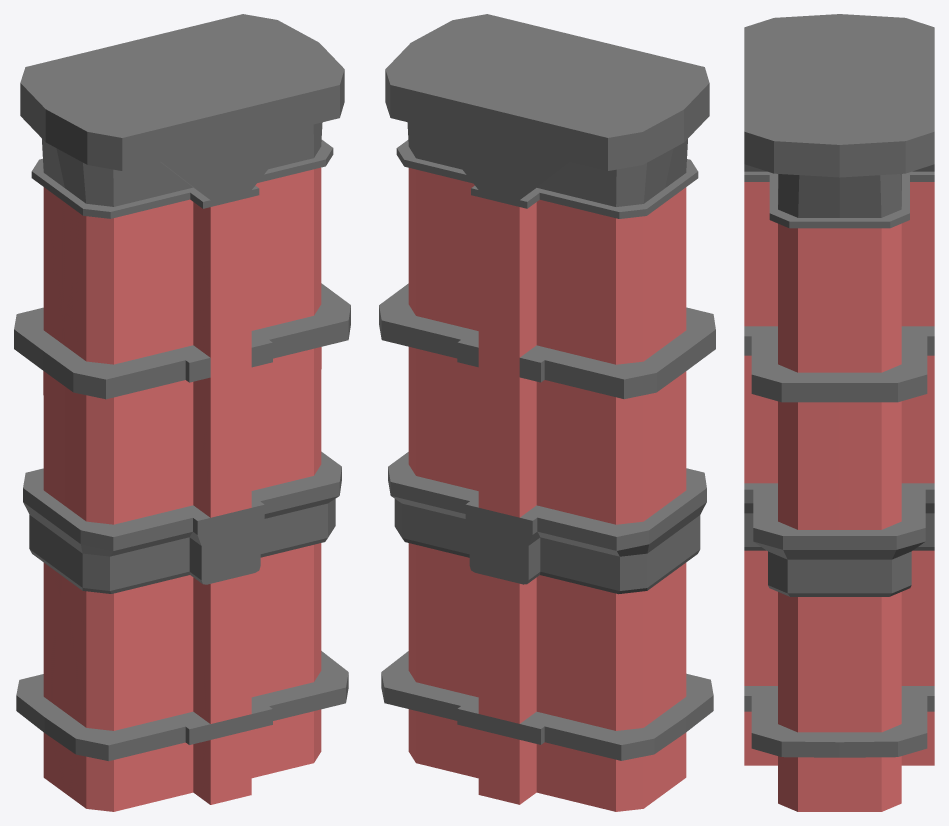
Rendered from PillarDoor.fbx.
3 views of the same model, side by side, from view 1: azimuth 30°, elevation 25°; view 2: azimuth 150°, elevation 25°; view 3: azimuth 270°, elevation 25° (orthographic).
Parts seen in each view (by area): view 1: Base007; view 2: Base007; view 3: Base007.
Part boxes in pixels (x1,y1,x2,y2): Base007: [14, 14, 350, 811]; Base007: [379, 14, 715, 811]; Base007: [744, 14, 934, 811].
Bounding box in the file's own units: 1.69 × 4 × 1.02.
